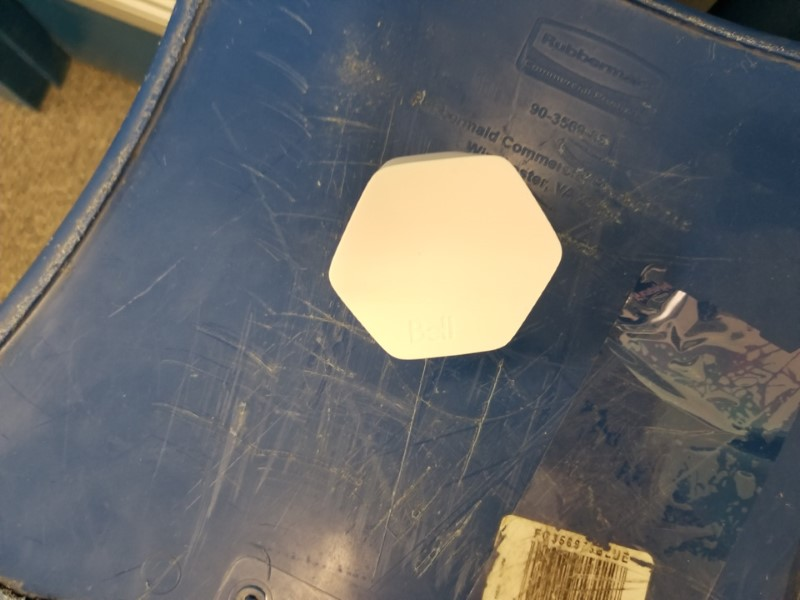pod: (323, 148, 570, 367)
